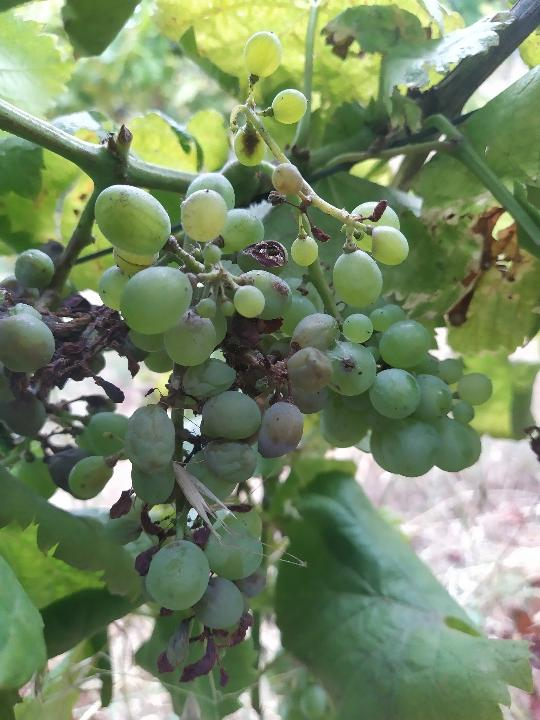grape: (1, 168, 342, 691)
